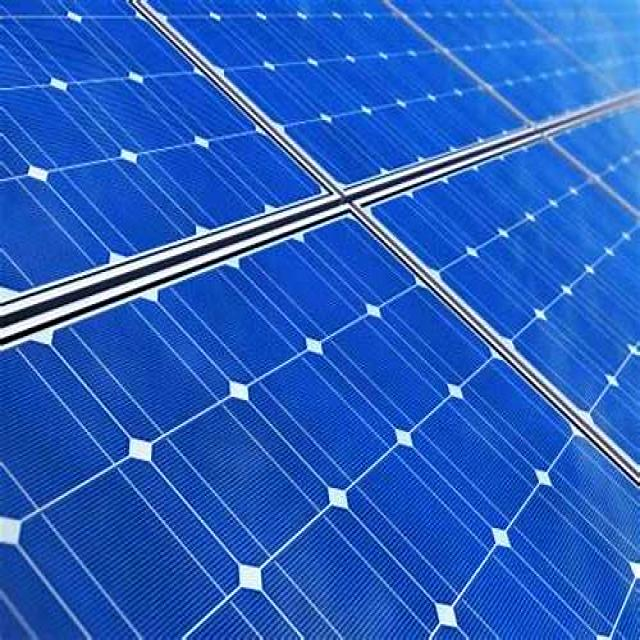crack: (0, 218, 640, 640), (348, 132, 640, 568), (0, 3, 360, 334), (138, 0, 534, 206)
